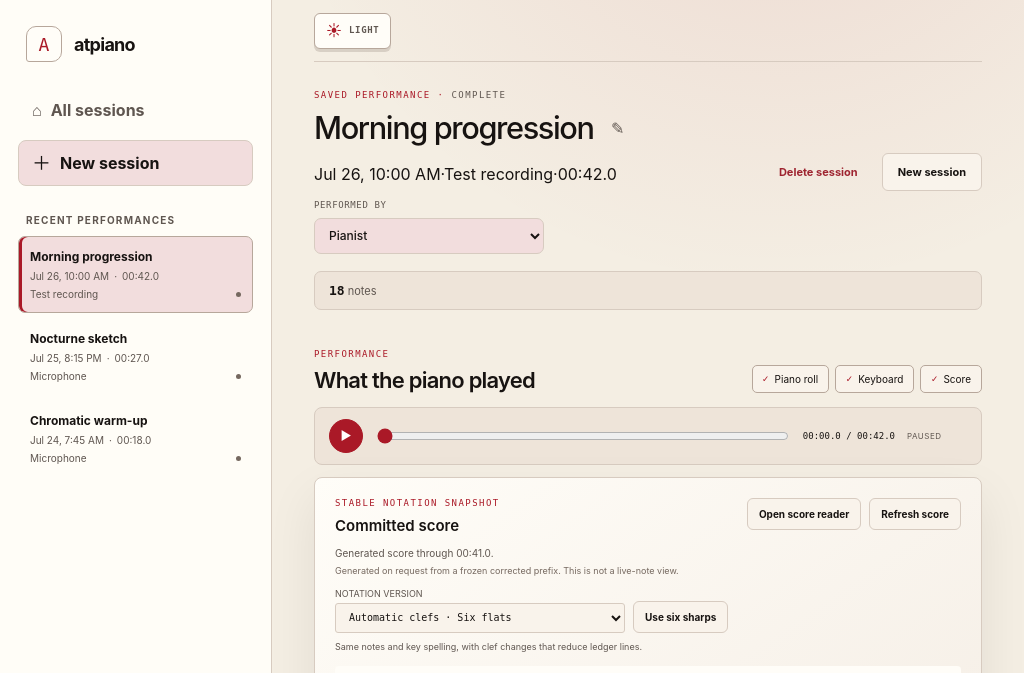
Test case: shared application › renames a session inline and shows save completion
Expected: the heading "Morning progression" is shown, [314,111,594,145]
Click the button named "Rename Morning progression" at (618, 128), box [603,113,633,143]
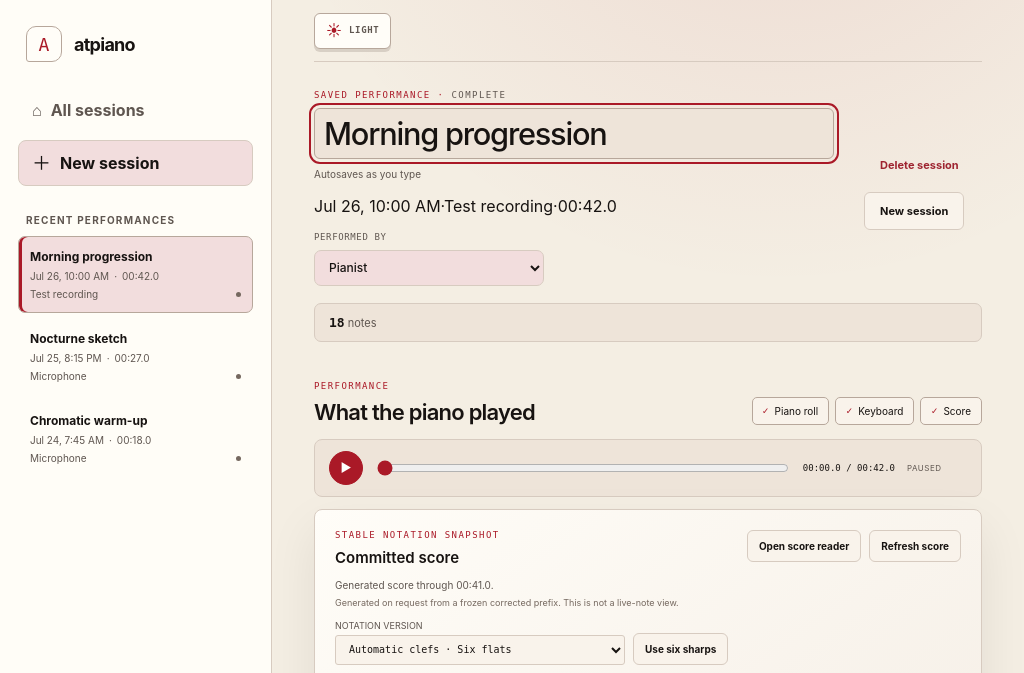
Replace the text in the field named "Session name" with "Sunday invention" at (574, 134), box [314,108,834,159]
Then press Enter
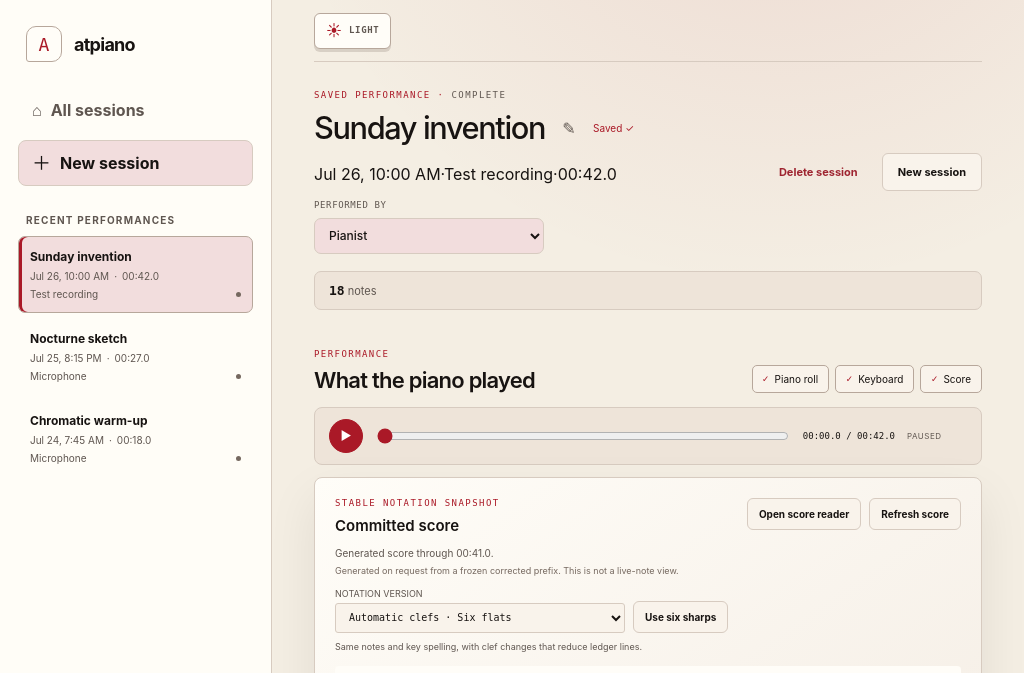
Expected: the heading "Sunday invention" is shown, [314,111,545,145]
Expected: the text "Saved ✓" is shown, [593,122,634,134]
